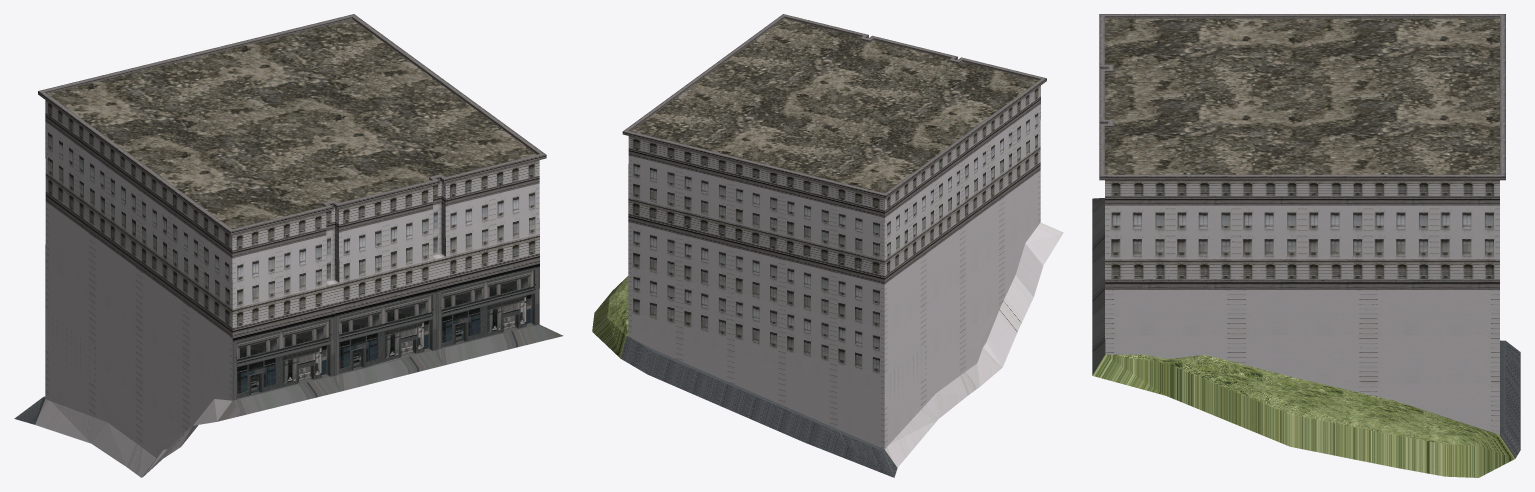
File: fishwarf24_sfe.obj
The picture shows the model from 3 angles, left to right: view 1: azimuth 30°, elevation 25°; view 2: azimuth 150°, elevation 25°; view 3: azimuth 270°, elevation 25°; orthographic projection. The views are drawn at different scales.
Visible parts, largest first — view 1: fishwarf24_sfe; view 2: fishwarf24_sfe; view 3: fishwarf24_sfe.
Part boxes in pixels (left/top/right/bottom): fishwarf24_sfe: left=14, top=14, right=563, bottom=477; fishwarf24_sfe: left=592, top=14, right=1063, bottom=477; fishwarf24_sfe: left=1092, top=14, right=1520, bottom=477.
Size of the model in its own units: 77.71 by 61.47 by 68.82.
Materials: 8 (8 with a texture image).
